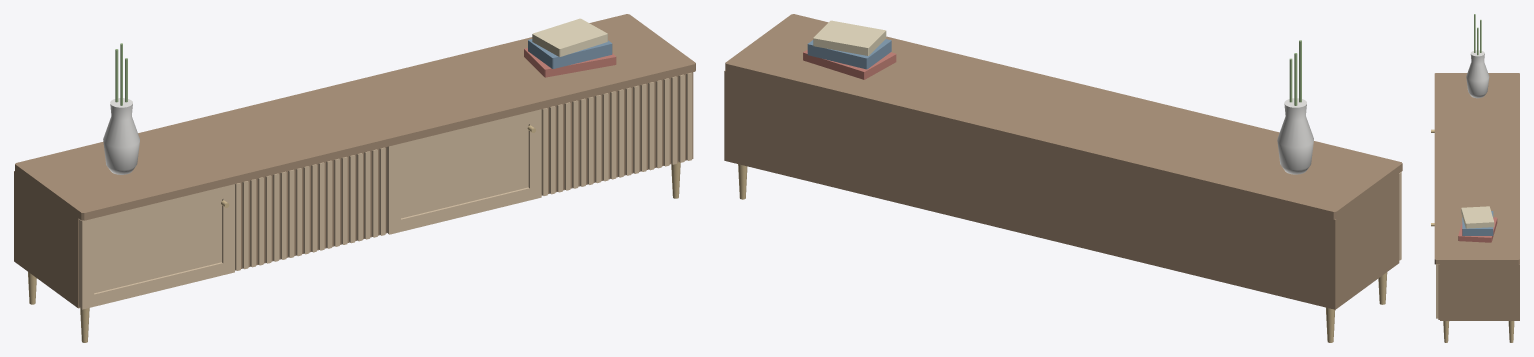
The picture shows the model from 3 angles, left to right: view 1: azimuth 30°, elevation 25°; view 2: azimuth 150°, elevation 25°; view 3: azimuth 270°, elevation 25°; orthographic projection. The views are drawn at different scales.
Visible parts, largest first — view 1: Kệ tivi Dài=2100; Sâu=400; view 2: Kệ tivi Dài=2100; Sâu=400; view 3: Kệ tivi Dài=2100; Sâu=400.
Boxes of the visible parts, x1,y1,x2,y2 form: Kệ tivi Dài=2100; Sâu=400: (14,14,695,342); Kệ tivi Dài=2100; Sâu=400: (724,14,1402,342); Kệ tivi Dài=2100; Sâu=400: (1431,14,1519,342).
Bounding box in the file's own units: 2.1 × 0.87 × 0.422.
